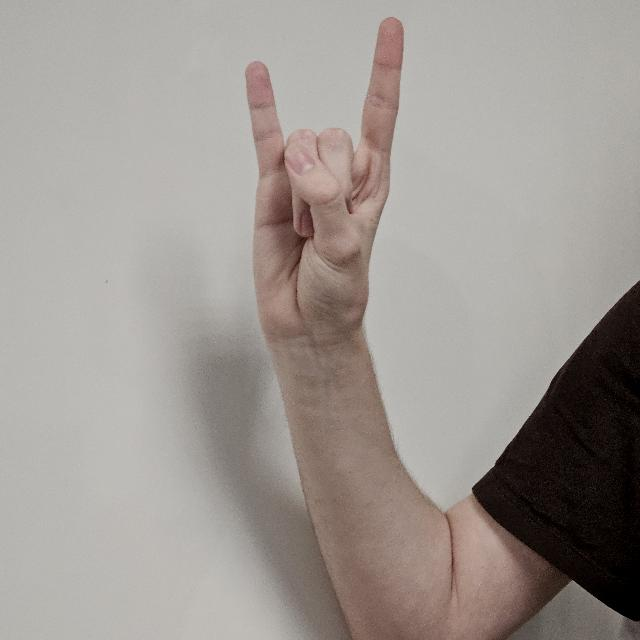L: (242, 18, 406, 350)
